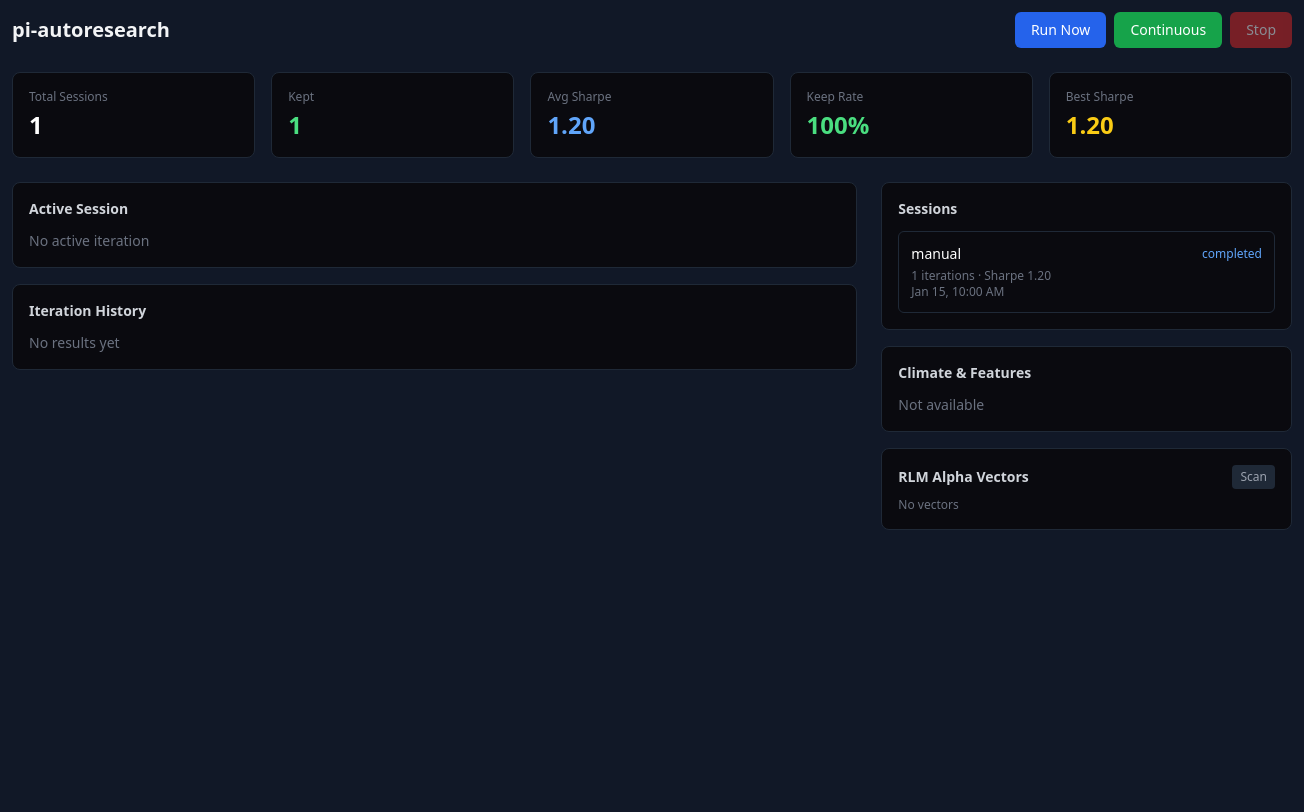
Test: ResearchPage › selects a session and loads results
Click the button "manual": (936, 254) top-left (898, 231), bottom-right (1275, 313)
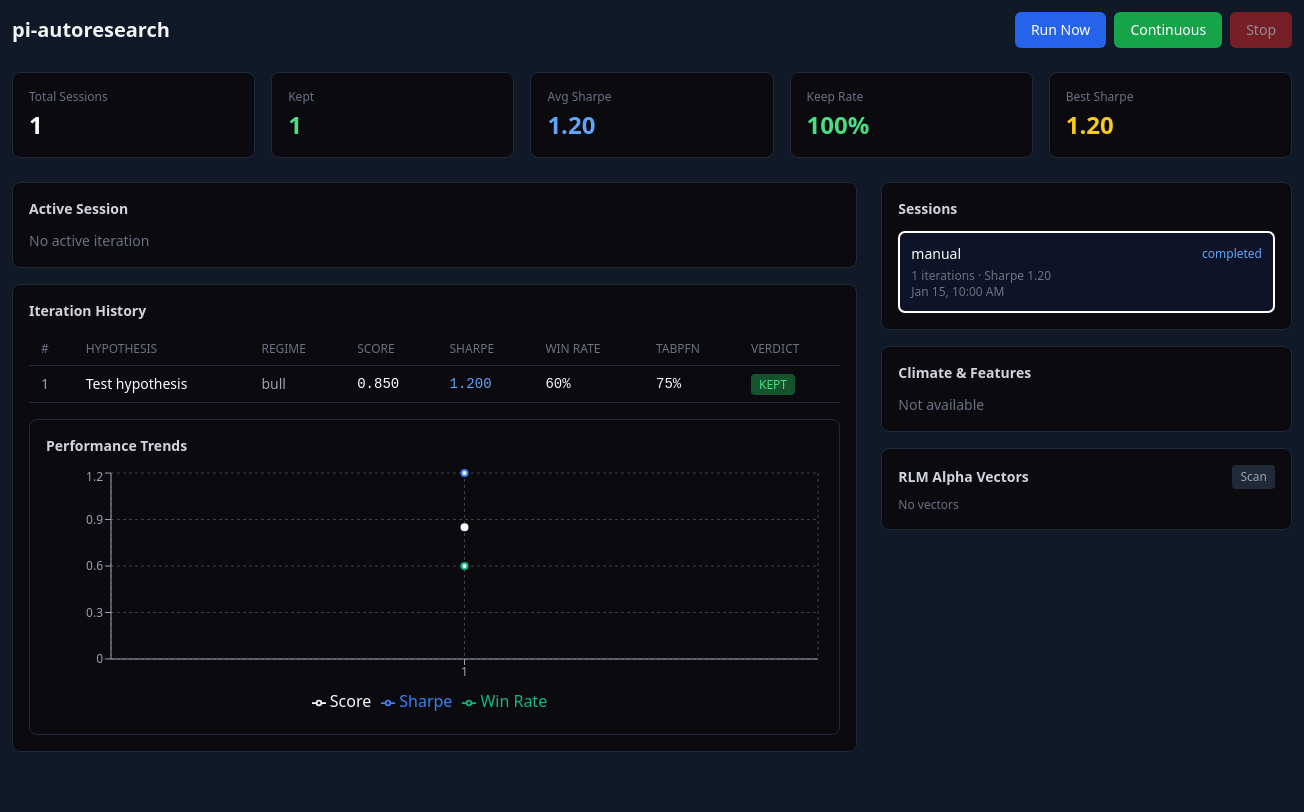
Expected: the text "Test hypothesis" is shown, top-left (74, 366), bottom-right (250, 402)
Expected: the text "0.850" is shown, top-left (345, 366), bottom-right (438, 402)
Expected: the text "1.200" is shown, top-left (438, 366), bottom-right (533, 402)
